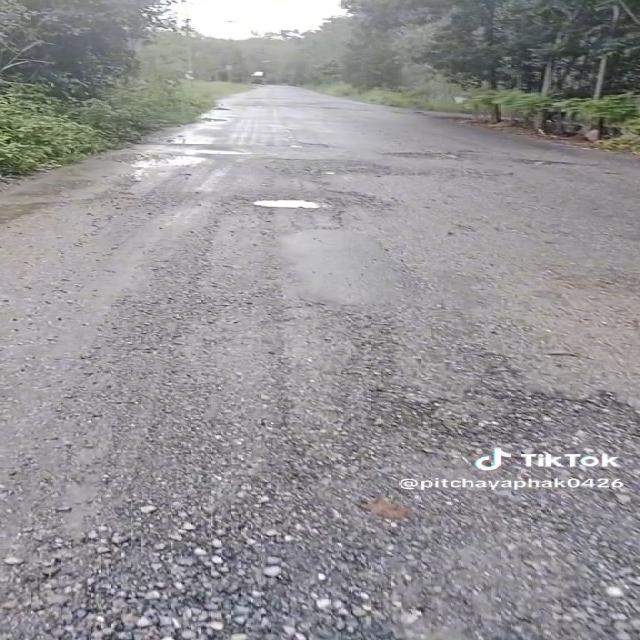Poth-hole: (208, 184, 430, 270), (134, 144, 268, 188), (325, 144, 392, 204)
